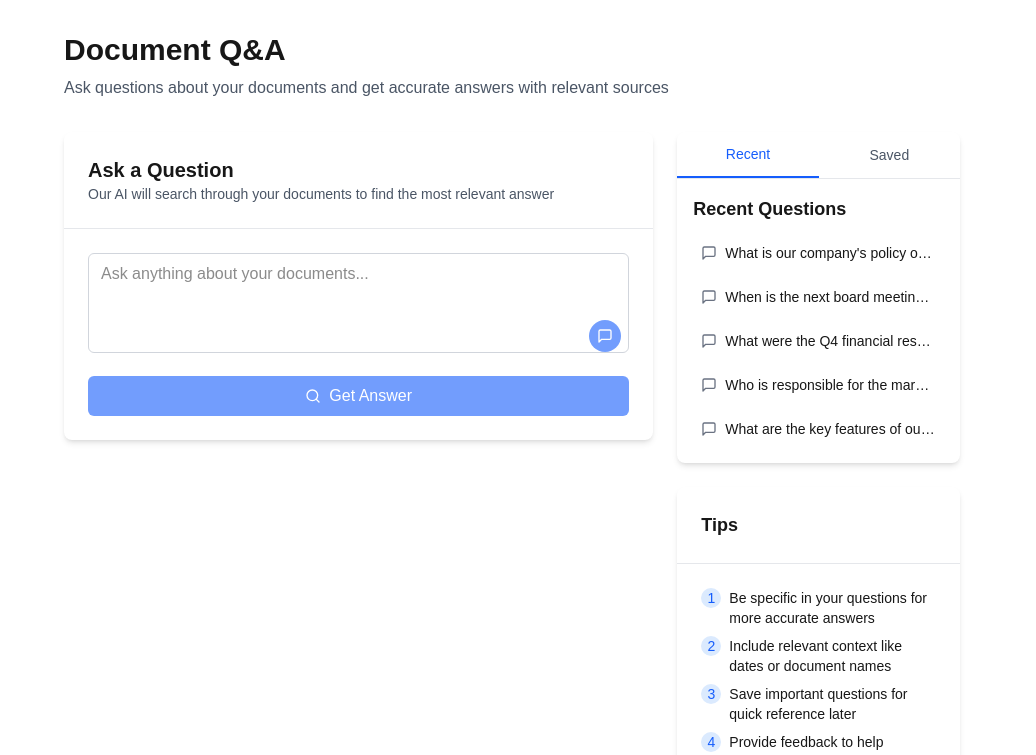
Test case: QAPage › fills the question input when clicking a recent question
The image size is (1036, 755).
// Click on a recent question
Click the button "What is our company's policy on remote work?".
click(819, 253)  # box left=693, top=235, right=944, bottom=271
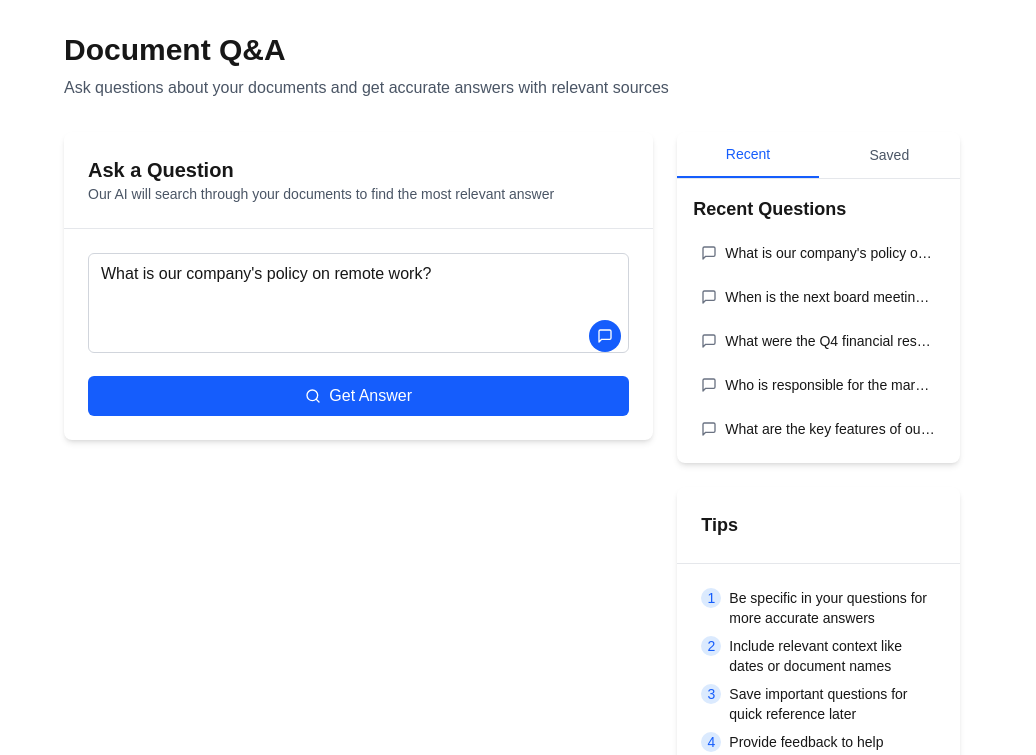
Expected: the text box with placeholder "Ask anything about your documents..." holds "What is our company's policy on remote work?", left=88, top=253, right=629, bottom=353
